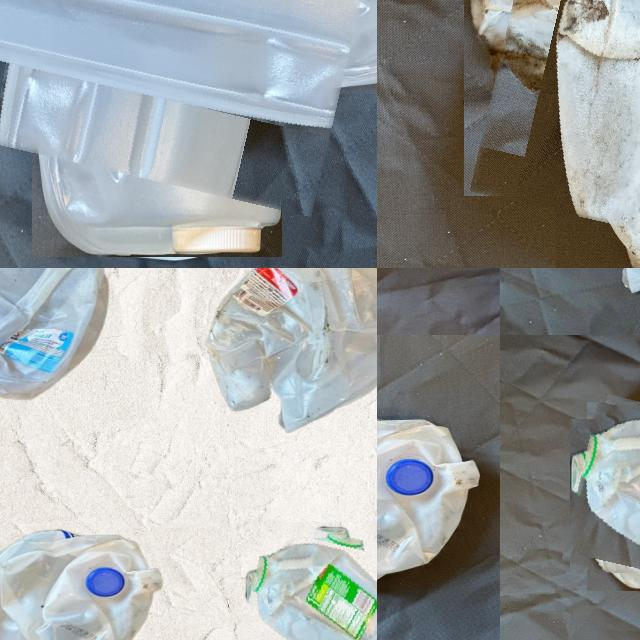milk-jug: (0, 0, 377, 196), (489, 0, 640, 262), (204, 268, 377, 423), (377, 411, 481, 596), (0, 534, 162, 640), (243, 525, 377, 640), (0, 268, 113, 395), (569, 401, 640, 591)
